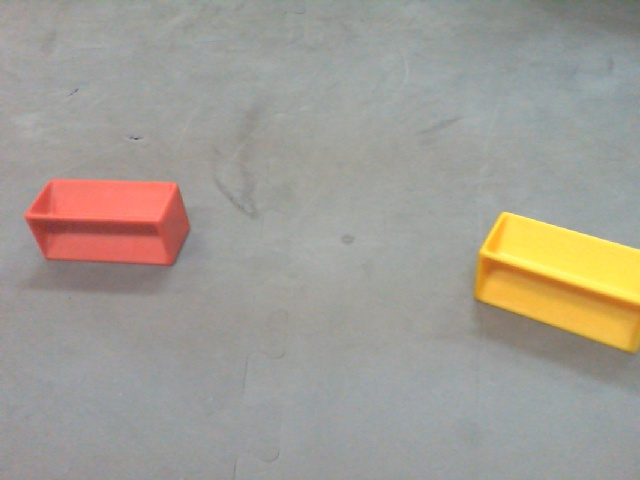RedSample: (20, 174, 192, 262)
YellowSample: (474, 212, 640, 358)
